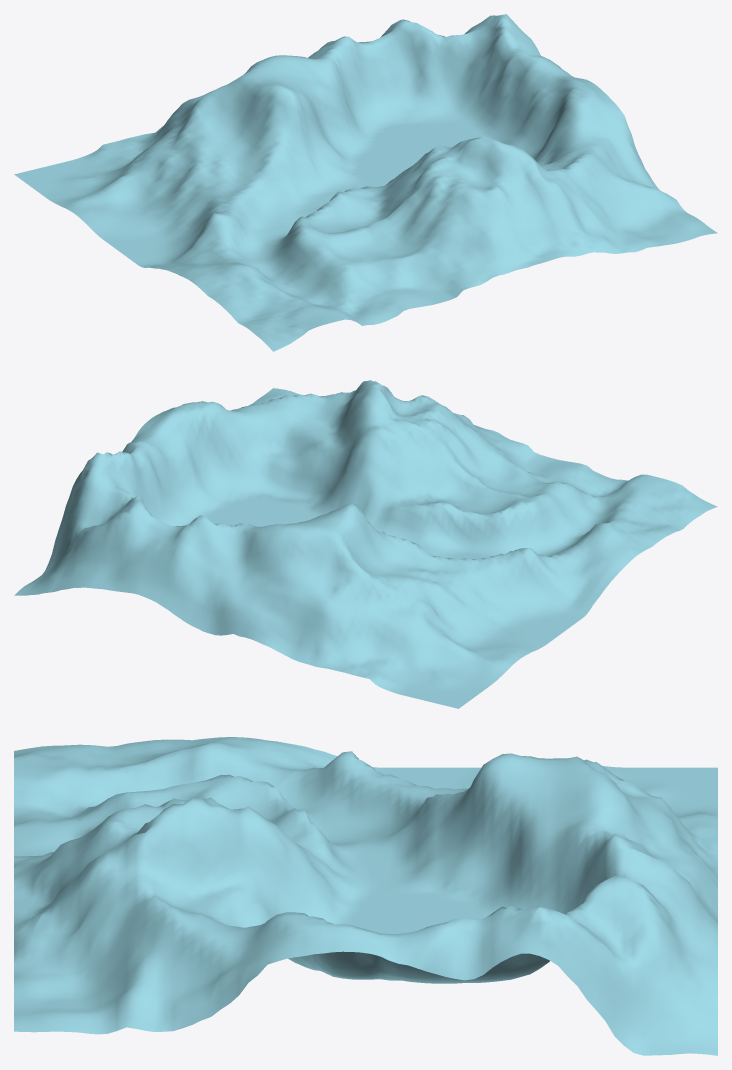
The model's file is terrain.obj.
The picture shows the model from 3 angles, top to bottom: view 1: azimuth 30°, elevation 25°; view 2: azimuth 150°, elevation 25°; view 3: azimuth 270°, elevation 25°; orthographic projection. The views are drawn at different scales.
Visible parts, largest first — view 1: Plane001; view 2: Plane001; view 3: Plane001.
Boxes of the visible parts, bbox=[...] form: Plane001: bbox=[14, 14, 717, 351]; Plane001: bbox=[14, 380, 717, 708]; Plane001: bbox=[14, 737, 717, 1055].
Bounding box in the file's own units: 990 × 237 × 1000.
